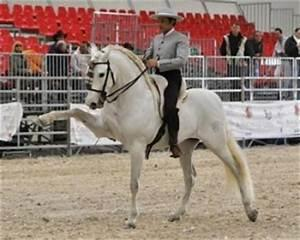horse: (26, 41, 258, 228)
